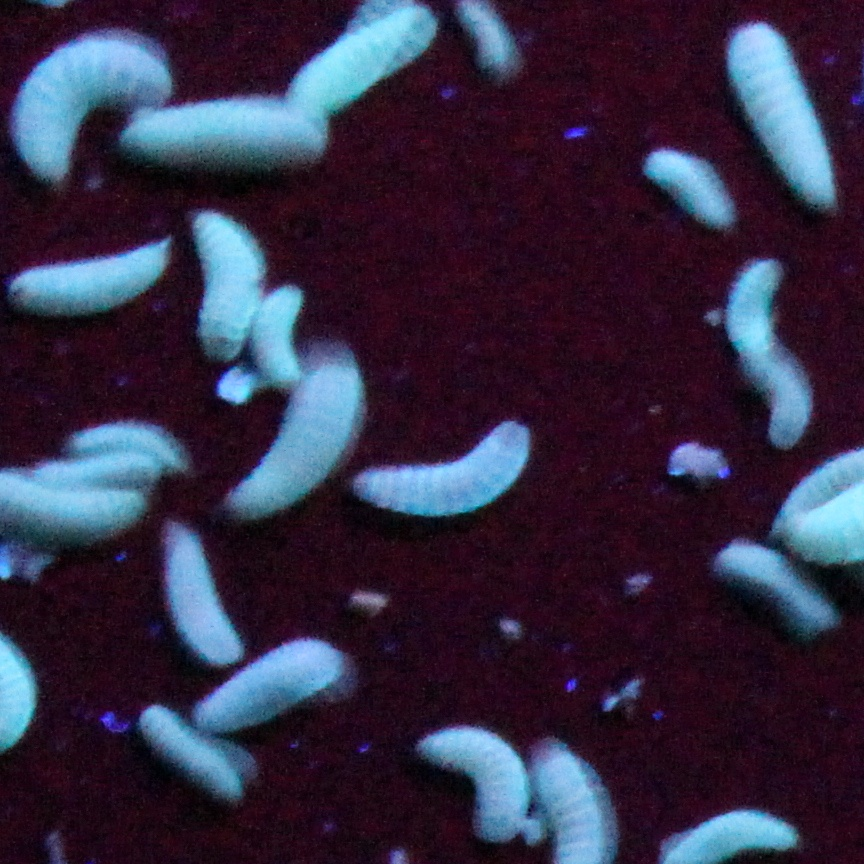larve: (10, 32, 158, 180), (234, 348, 362, 512), (722, 36, 830, 200), (354, 436, 530, 532), (194, 648, 358, 728), (6, 240, 162, 324), (150, 532, 250, 660), (418, 732, 526, 844), (182, 224, 266, 364), (302, 12, 406, 112), (146, 112, 326, 164), (146, 708, 246, 800), (762, 248, 806, 444), (722, 552, 838, 620), (647, 148, 730, 224), (34, 456, 138, 492), (262, 288, 302, 356)
